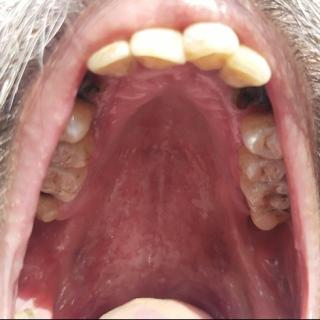cavities: (37, 188, 58, 215)
maligned: (179, 17, 238, 78), (134, 25, 189, 74), (225, 45, 271, 89)
